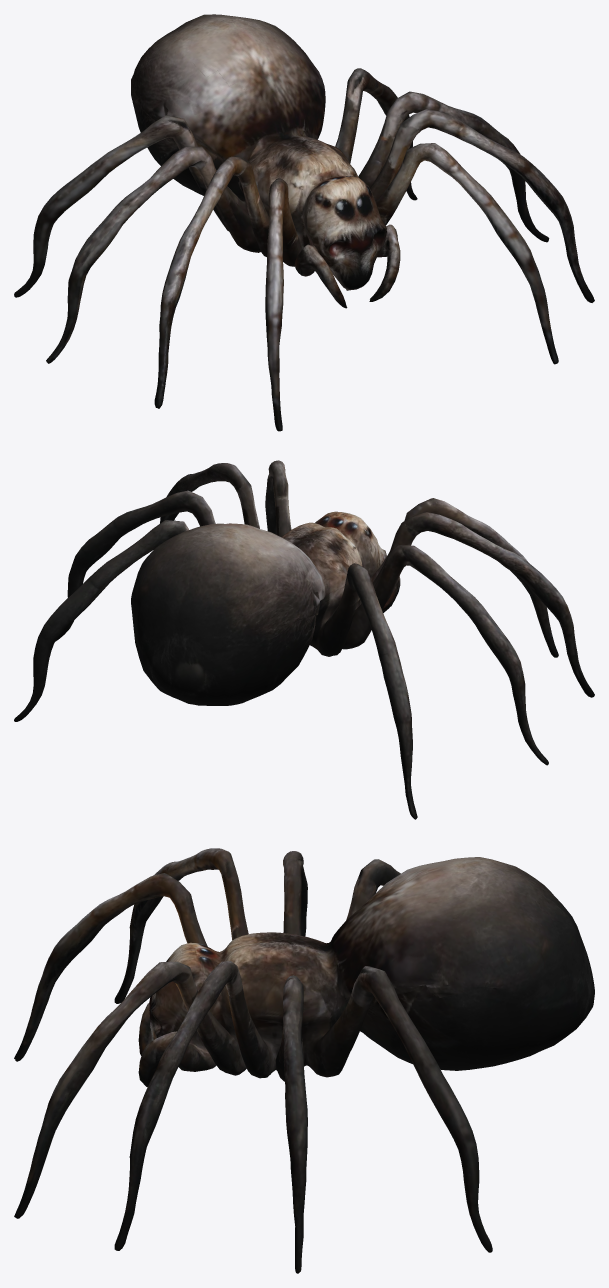
File: monster_30.glb
The picture shows the model from 3 angles, top to bottom: view 1: azimuth 30°, elevation 25°; view 2: azimuth 150°, elevation 25°; view 3: azimuth 270°, elevation 25°; orthographic projection. The views are drawn at different scales.
Visible parts, largest first — view 1: giant_spider_0709153258_texture; view 2: giant_spider_0709153258_texture; view 3: giant_spider_0709153258_texture.
Boxes of the visible parts, <box> form: giant_spider_0709153258_texture: <box>14,14,594,431</box>; giant_spider_0709153258_texture: <box>14,460,594,819</box>; giant_spider_0709153258_texture: <box>14,848,594,1273</box>.
Size of the model in its own units: 2.01 by 0.8915 by 1.72.
Materials: 1 (1 with a texture image).
